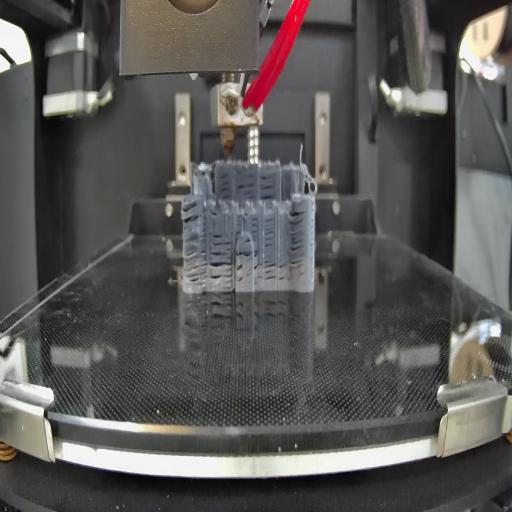cracks: (185, 231, 207, 289), (289, 208, 308, 269), (211, 258, 233, 290), (181, 199, 204, 226), (264, 258, 288, 282), (260, 173, 278, 201), (238, 173, 255, 199), (219, 168, 231, 200), (214, 232, 233, 250), (238, 248, 261, 262), (264, 216, 274, 248), (237, 264, 246, 287), (234, 214, 244, 234), (252, 212, 259, 235), (254, 260, 262, 280), (244, 237, 253, 244)
